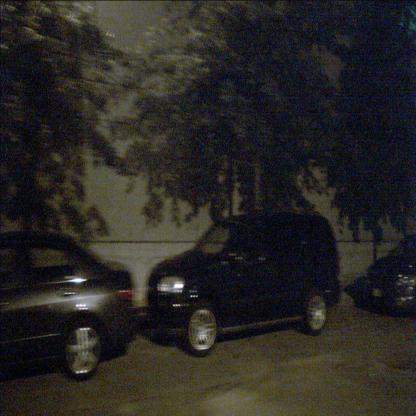vehicle-car: (147, 209, 343, 357), (0, 228, 138, 382), (365, 234, 415, 319)
